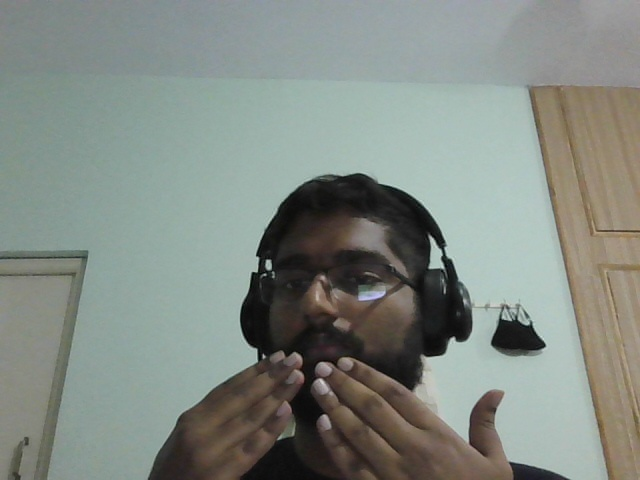Thank You: (144, 345, 518, 480)
